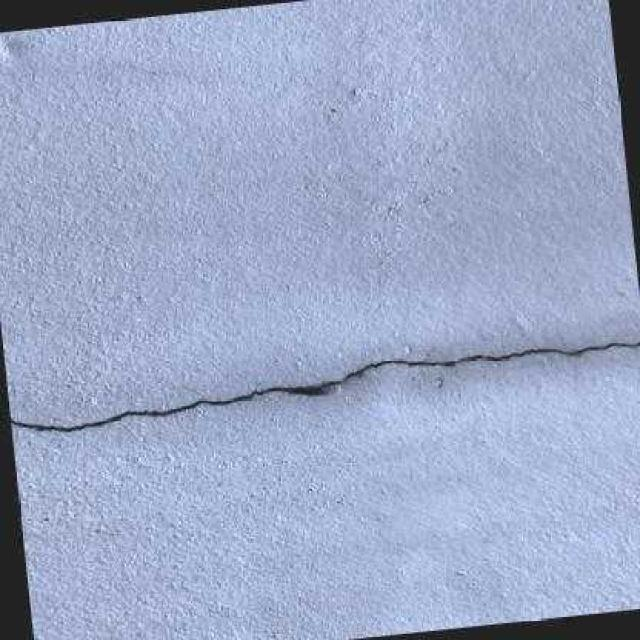D00: (9, 340, 640, 432)
